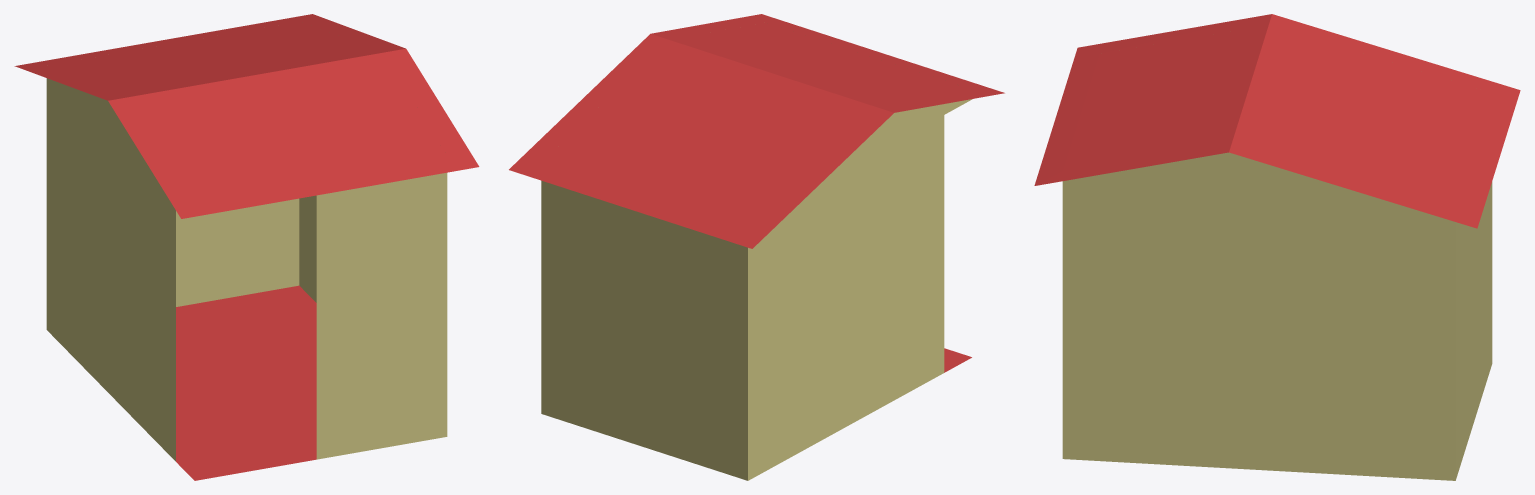
3 views of the same model, side by side, from view 1: azimuth 30°, elevation 25°; view 2: azimuth 150°, elevation 25°; view 3: azimuth 270°, elevation 25° (orthographic). The views are drawn at different scales.
Parts seen in each view (by area): view 1: group_5, group_3, group_6, group_4; view 2: group_5, group_3, group_4; view 3: group_5, group_3, group_4.
Part boxes in pixels (box(x1,y1,x2,y2)): group_5: box(46, 78, 447, 461); group_3: box(47, 21, 446, 199); group_6: box(176, 285, 316, 480); group_4: box(14, 14, 479, 218); group_5: box(541, 99, 972, 480); group_3: box(522, 22, 971, 243); group_4: box(509, 14, 1004, 248); group_5: box(1062, 152, 1492, 480); group_3: box(1063, 14, 1492, 210); group_4: box(1034, 14, 1520, 228).
Bounding box in the file's own units: 11.48 × 14.46 × 10.71.
